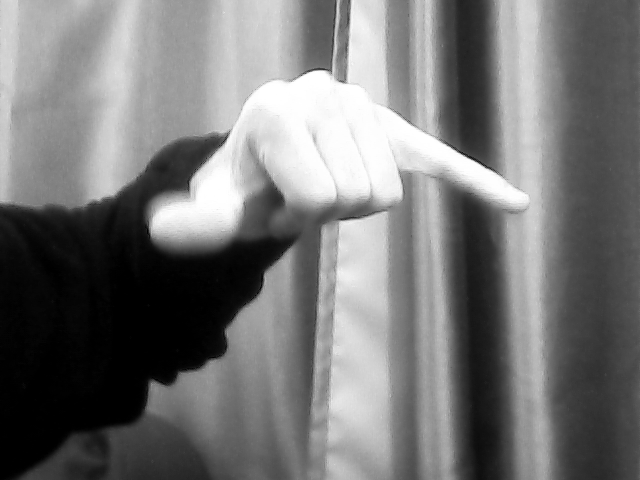aloha: (137, 67, 550, 262)
